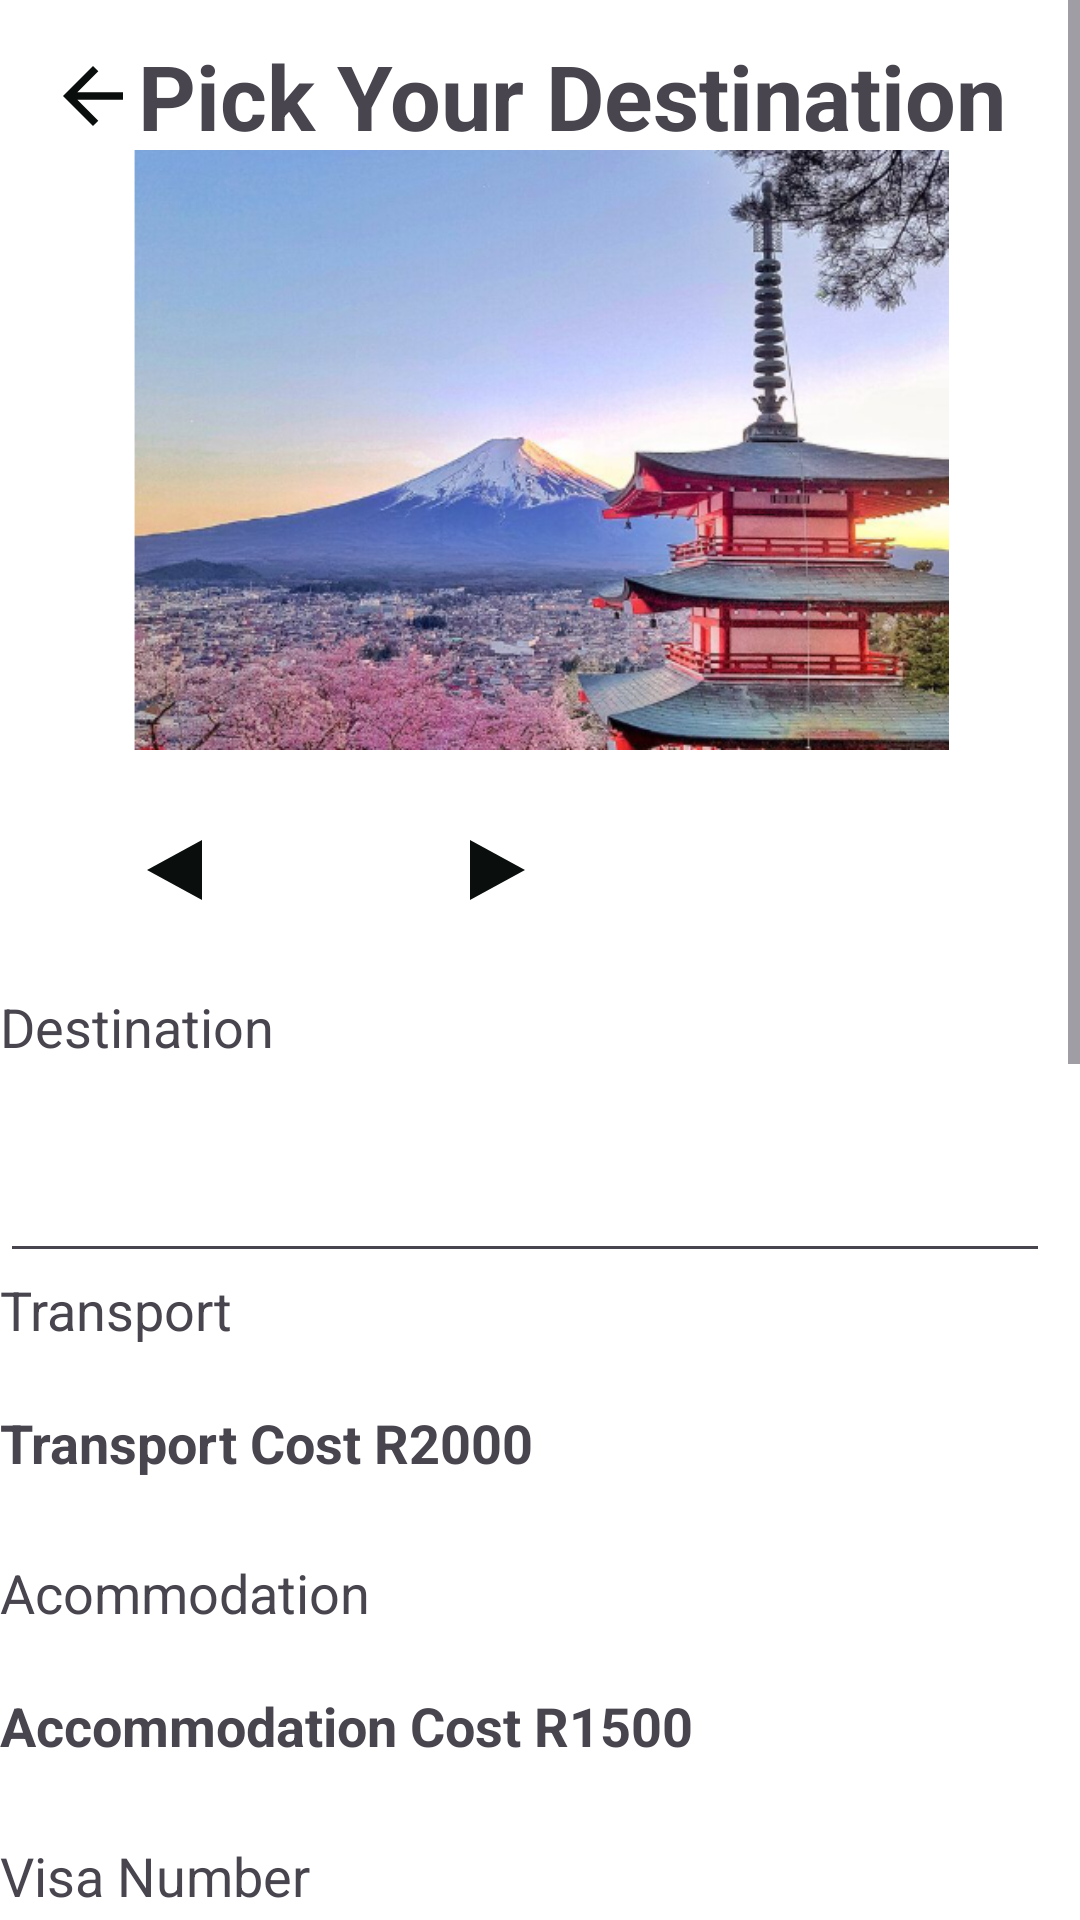

Icons on this 1080 x 1920 Android screen, each with the point to tap as point (x, y):
arrow back: point (93, 96)
arrow left: point (174, 870)
arrow right: point (497, 870)
